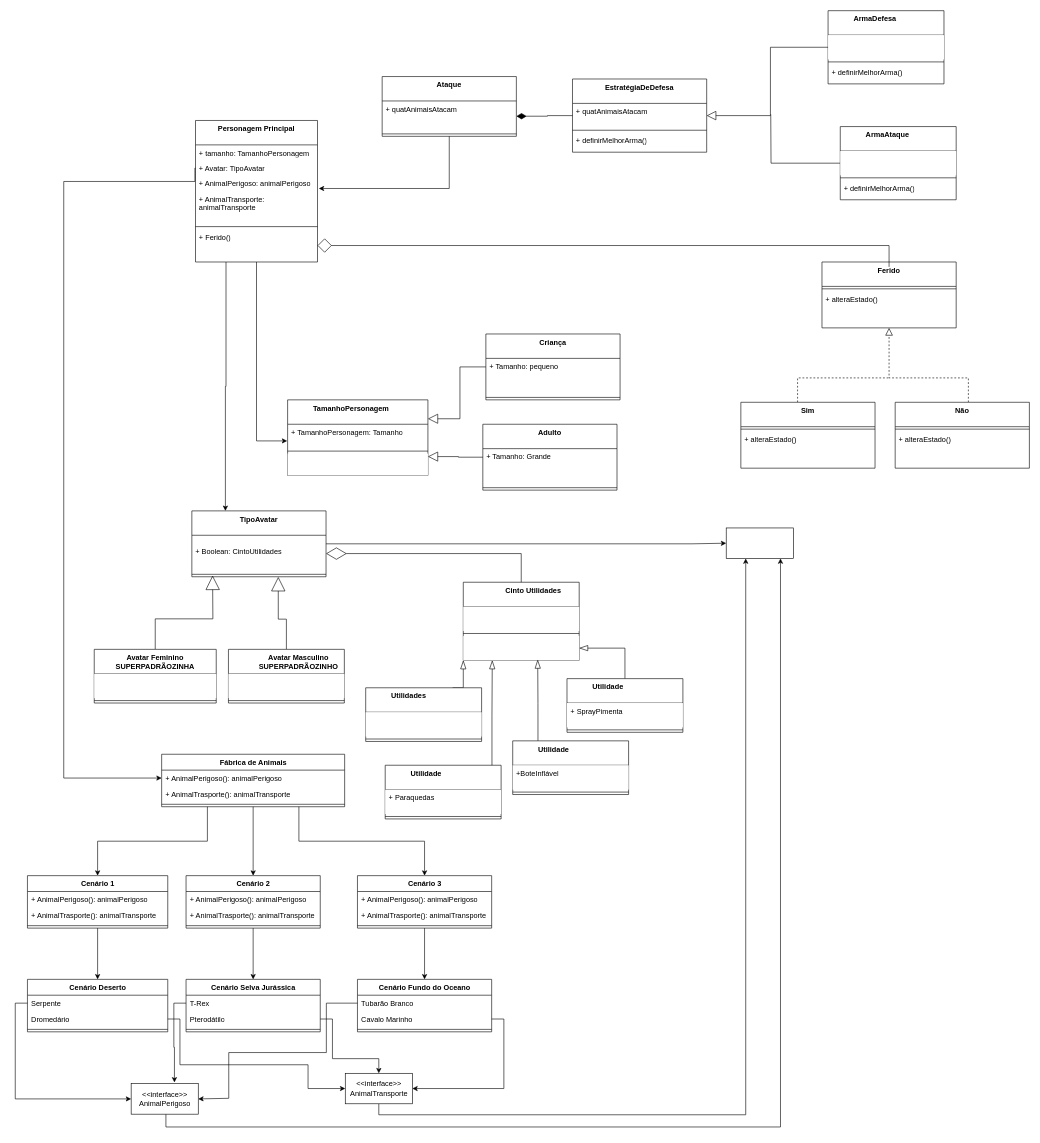
Image size: 1040x1143. Some labels were removed from this diagram. The shapes that lost their labels are listed below. From the top down, each one's centre as x and y in pixels, then its label:
At (886,47): "+Utilidade: BoteInflável".
At (898,163): "+Utilidade: SprayPimenta".
At (357,464): "+ criaTamanho()".
At (759,542): "<<interface>> Jogo".
At (521,618): "+ Utilidade: Utilidade".
At (521,648): "+ Adiciona(:Utilidade)".
At (155,685): "+ Voar()".
At (286,685): "+ Correr()".
At (423,724): "+ Corda".
